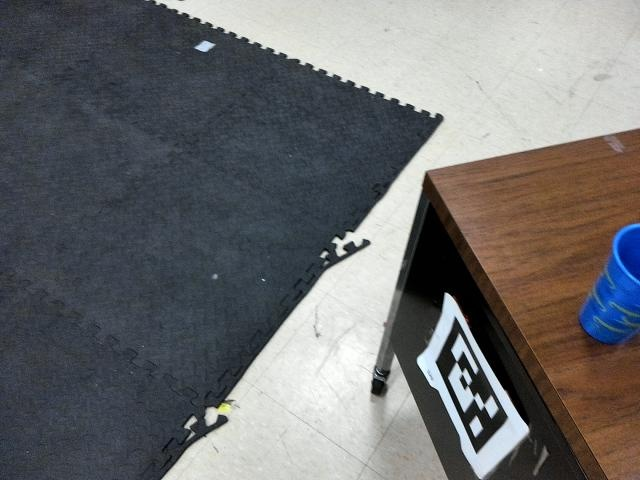water_cup: (569, 213, 640, 354)
